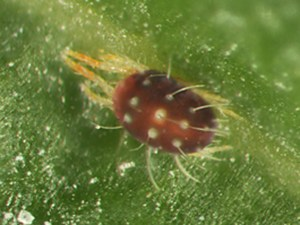Mites: (63, 46, 234, 183)
